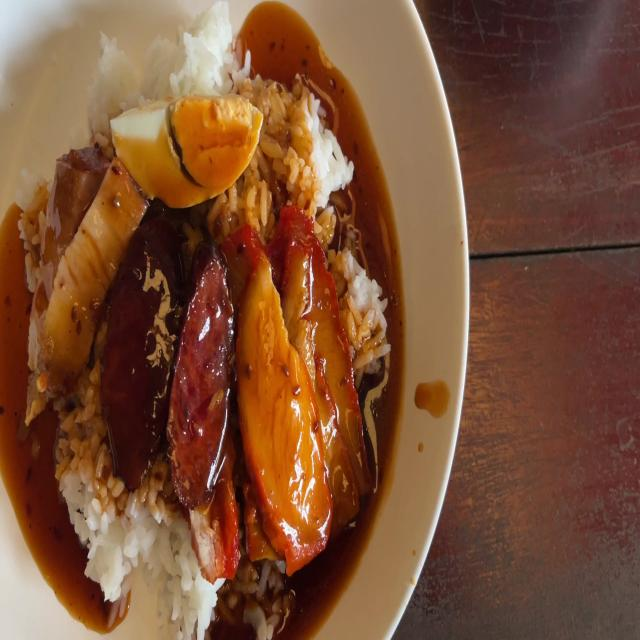red_pork_and_crispy_pork: (120, 99, 259, 194)
stir_fried_basil: (113, 221, 233, 487)
